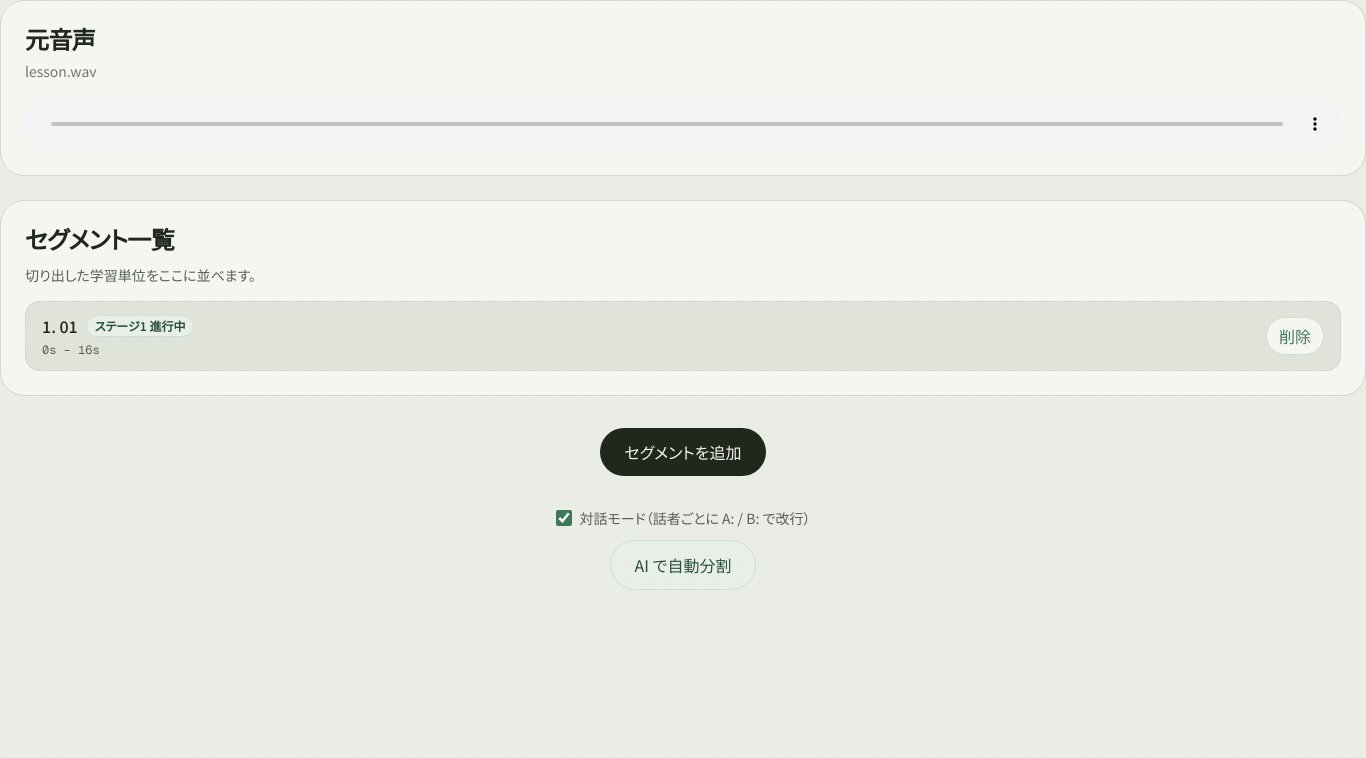
Test: ProjectSegmentWorkspace › shows existing segments first and hides the manual form behind a bottom button
Expected: the text "1. 01" is shown, x1=42 y1=314 x2=78 y2=338
Expected: the field labelled "セグメント名" is not shown
Click the button "セグメントを追加": {"x": 683, "y": 452} x1=600 y1=428 x2=766 y2=476
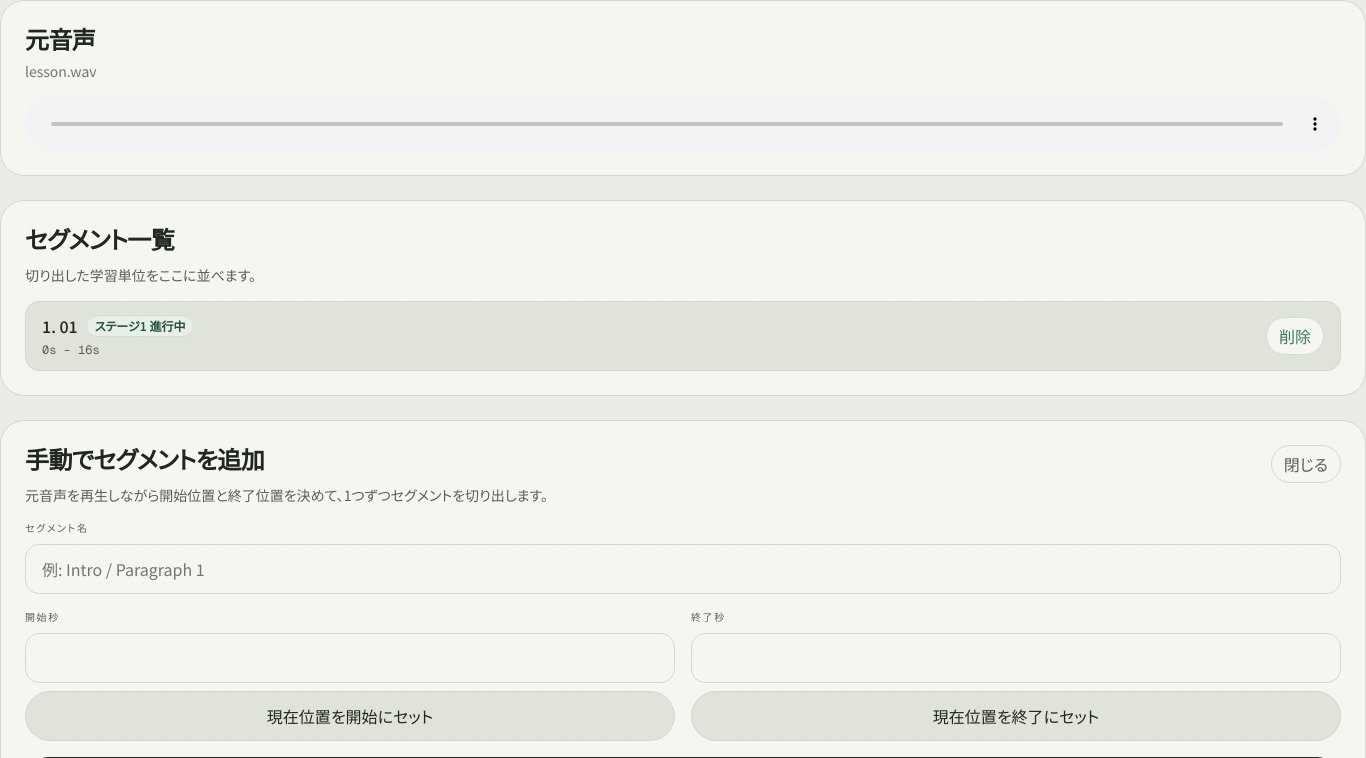
Expected: the field labelled "セグメント名" is shown, x1=25 y1=544 x2=1341 y2=594
Click the button "閉じる": {"x": 1306, "y": 464} x1=1271 y1=445 x2=1341 y2=483
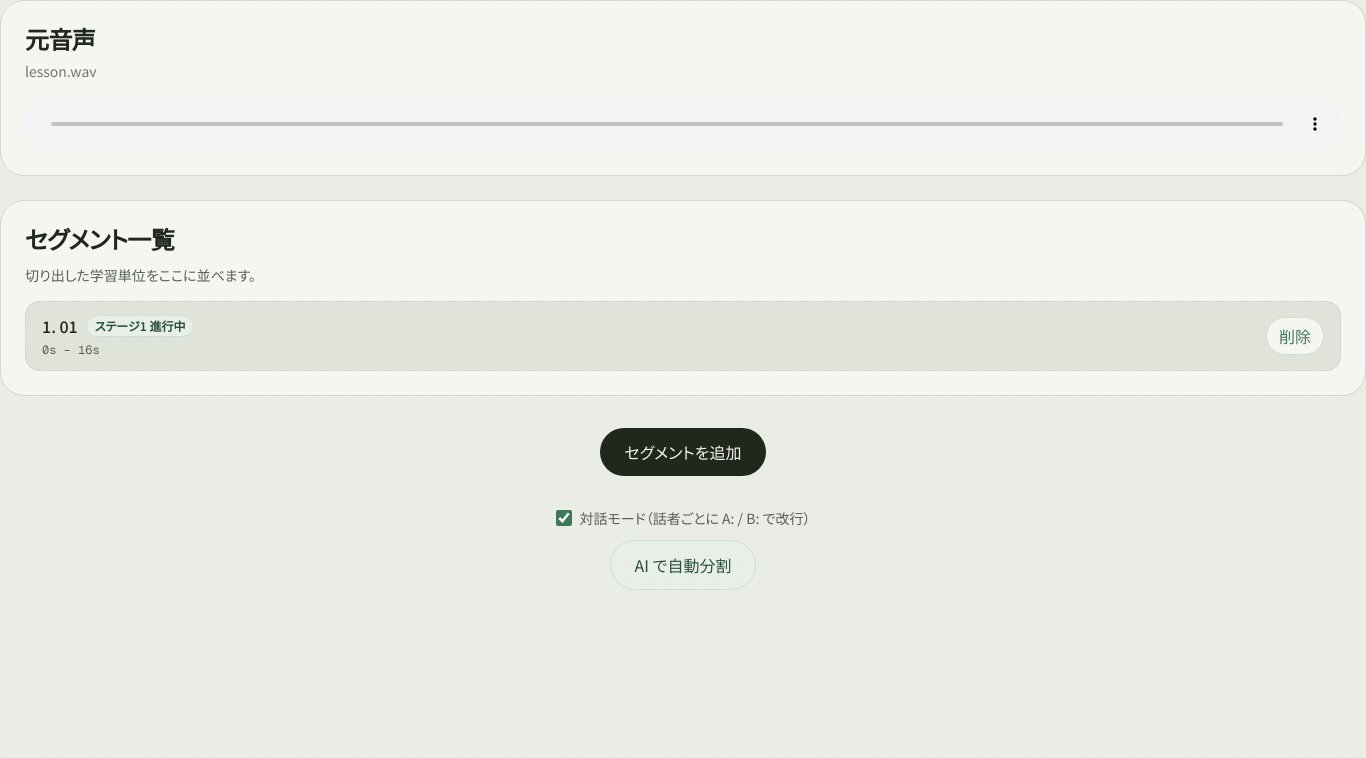
Expected: the label labelled "セグメント名" is gone
Expected: the button "セグメントを追加" is shown, x1=600 y1=428 x2=766 y2=476
